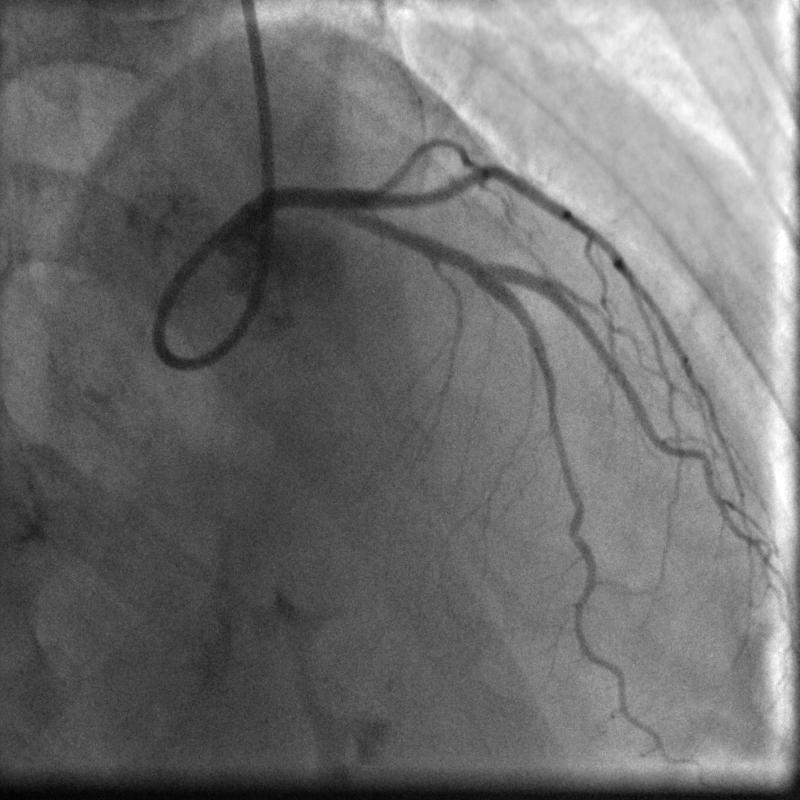Stenosis: (466, 250, 491, 286)
